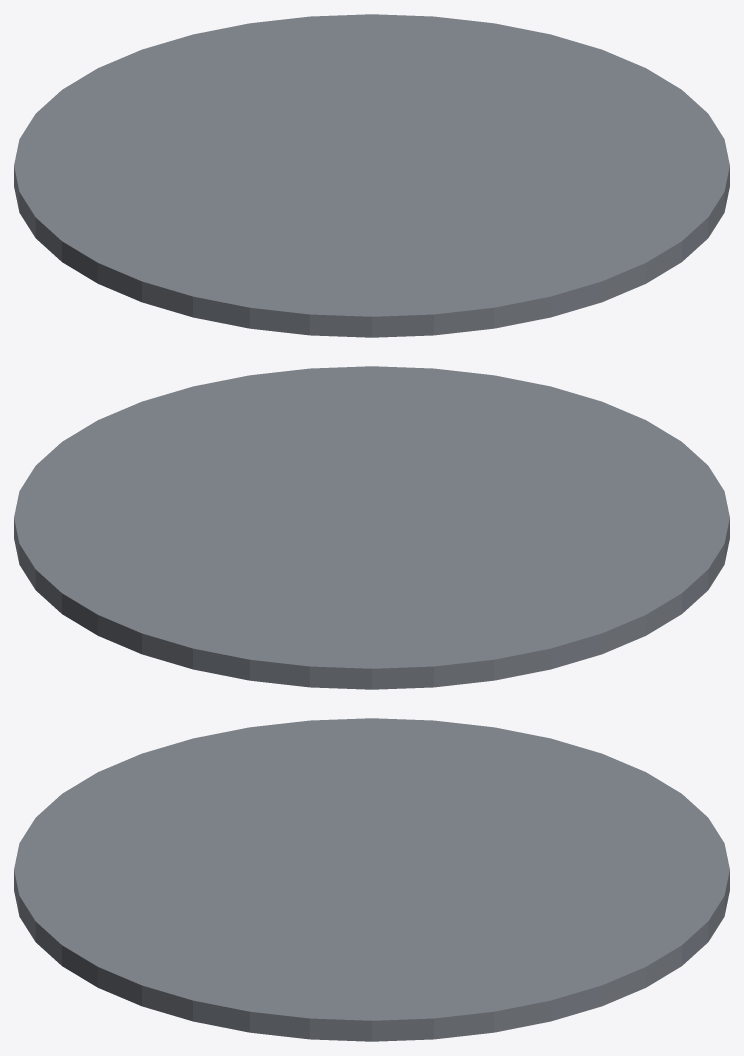
The model's file is RoofConnector.fbx.
3 renders of one model, top to bottom at view 1: azimuth 30°, elevation 25°; view 2: azimuth 150°, elevation 25°; view 3: azimuth 270°, elevation 25°, orthographic.
Parts seen in each view (by area): view 1: RoofConnector; view 2: RoofConnector; view 3: RoofConnector.
Boxes of the visible parts, x1,y1,x2,y2 form: RoofConnector: (14,14,729,337); RoofConnector: (14,366,729,689); RoofConnector: (14,718,729,1041).
Bounding box in the file's own units: 620 × 20 × 620.
